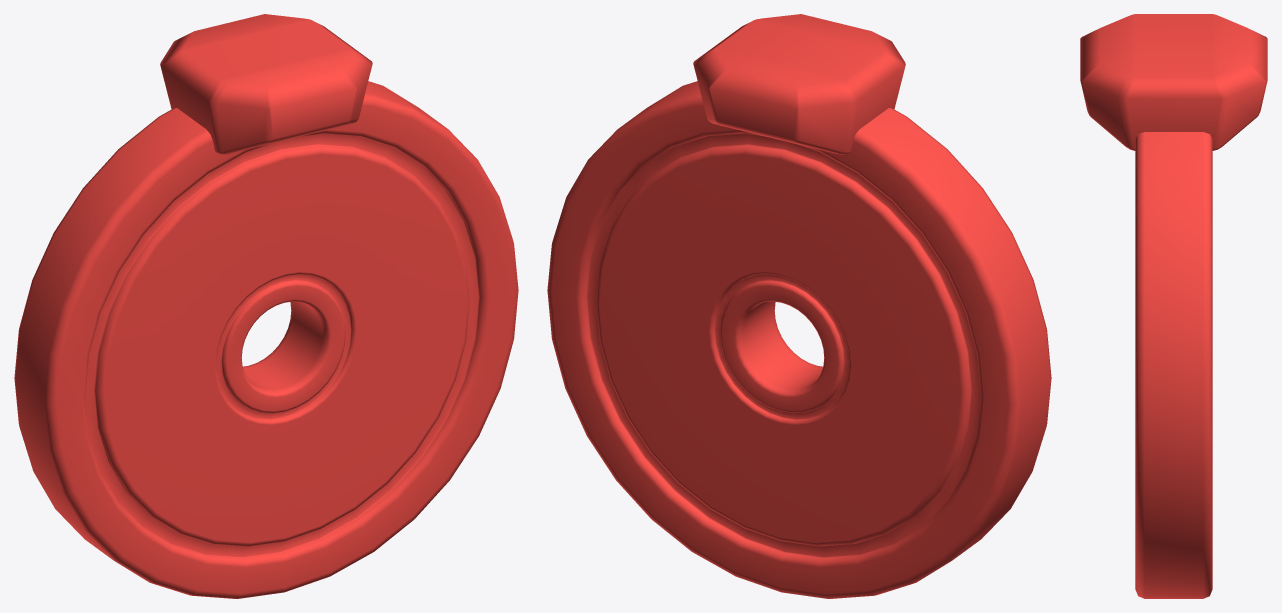
Rendered from part_magazine_05.fbx.
The picture shows the model from 3 angles, left to right: view 1: azimuth 30°, elevation 25°; view 2: azimuth 150°, elevation 25°; view 3: azimuth 270°, elevation 25°; orthographic projection.
Parts seen in each view (by area): view 1: part_magazine_05; view 2: part_magazine_05; view 3: part_magazine_05.
Part boxes in pixels (box(x1,y1,x2,y2)): part_magazine_05: box(14, 14, 518, 598); part_magazine_05: box(547, 14, 1051, 598); part_magazine_05: box(1080, 14, 1267, 598).
Size of the model in its own units: 17.07 by 18.35 by 5.9.
